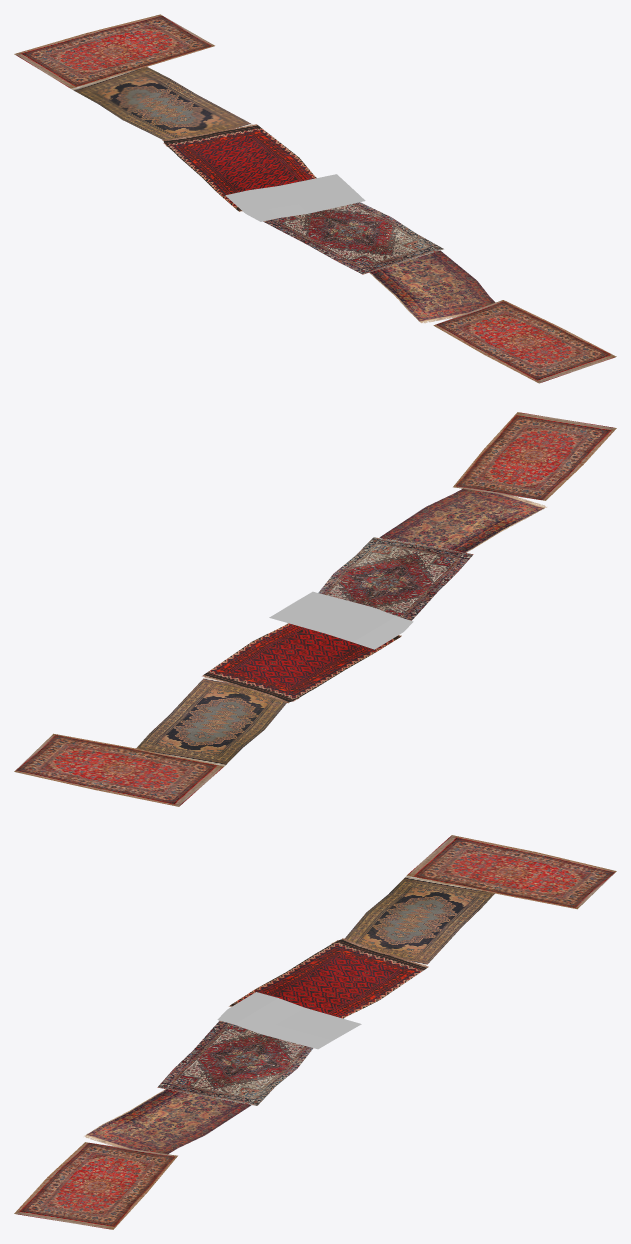
File: SM_Scene_A_Rugs00.fbx
The picture shows the model from 3 angles, top to bottom: view 1: azimuth 30°, elevation 25°; view 2: azimuth 150°, elevation 25°; view 3: azimuth 330°, elevation 25°; orthographic projection. The views are drawn at different scales.
Visible parts, largest first — view 1: SM_Scene_A_Rugs00; view 2: SM_Scene_A_Rugs00; view 3: SM_Scene_A_Rugs00.
Boxes of the visible parts, bbox=[...] form: SM_Scene_A_Rugs00: bbox=[14, 14, 616, 383]; SM_Scene_A_Rugs00: bbox=[14, 412, 616, 806]; SM_Scene_A_Rugs00: bbox=[14, 835, 616, 1229].
Bounding box in the file's own units: 381 × 3.37 × 1953.
